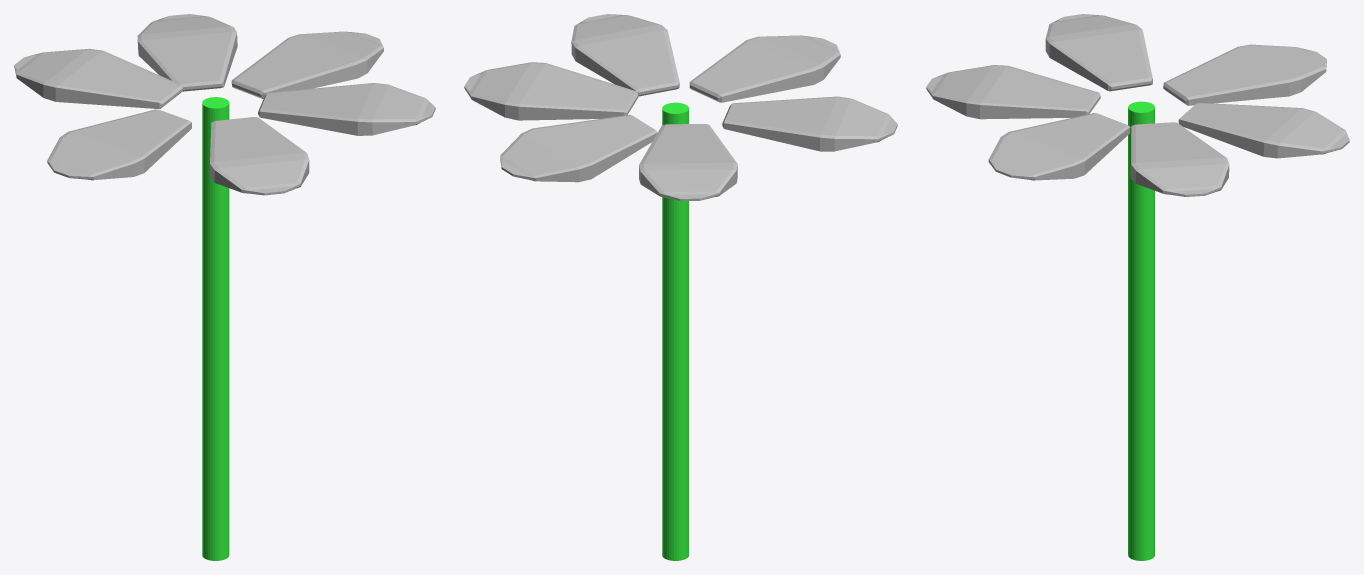
Rendered from Flower_Spin1.glb.
3 renders of one model, left to right at view 1: azimuth 30°, elevation 25°; view 2: azimuth 150°, elevation 25°; view 3: azimuth 270°, elevation 25°, orthographic.
Parts seen in each view (by area): view 1: Cylinder, Cube.001, Cube.004, Cube.006, Cube.005, Cube.002, Cube.003; view 2: Cylinder, Cube.005, Cube.003, Cube.006, Cube.002, Cube.004, Cube.001; view 3: Cylinder, Cube.002, Cube.001, Cube.003, Cube.004, Cube.006, Cube.005.
Boxes of the visible parts, x1=… form: Cylinder: x1=202, y1=97, x2=229, y2=560; Cube.001: x1=14, y1=48, x2=182, y2=108; Cube.004: x1=258, y1=83, x2=435, y2=135; Cube.006: x1=47, y1=109, x2=191, y2=180; Cube.005: x1=231, y1=31, x2=383, y2=98; Cube.002: x1=210, y1=117, x2=309, y2=195; Cube.003: x1=137, y1=14, x2=237, y2=91; Cylinder: x1=662, y1=102, x2=688, y2=560; Cube.005: x1=464, y1=62, x2=638, y2=120; Cube.003: x1=500, y1=114, x2=657, y2=182; Cube.006: x1=722, y1=96, x2=897, y2=151; Cube.002: x1=689, y1=35, x2=840, y2=102; Cube.004: x1=571, y1=14, x2=679, y2=96; Cube.001: x1=639, y1=124, x2=737, y2=200; Cylinder: x1=1128, y1=101, x2=1154, y2=560; Cube.002: x1=926, y1=65, x2=1100, y2=119; Cube.001: x1=1163, y1=44, x2=1326, y2=105; Cube.003: x1=1178, y1=102, x2=1349, y2=158; Cube.004: x1=988, y1=113, x2=1130, y2=180; Cube.006: x1=1045, y1=14, x2=1152, y2=91; Cube.005: x1=1130, y1=122, x2=1229, y2=196.
Bounding box in the file's own units: 8.41 × 9.9 × 8.25.
